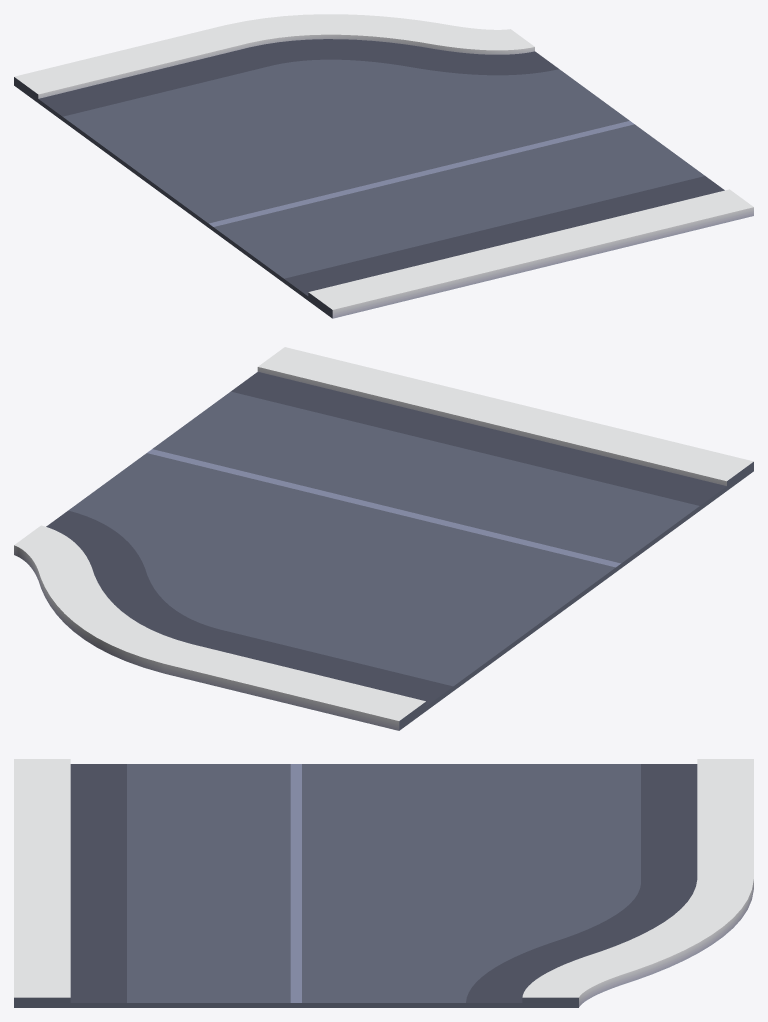
The model's file is kenney-city-roads-road-side-entry.glb.
3 views of the same model, one above another, from view 1: azimuth 30°, elevation 25°; view 2: azimuth 150°, elevation 25°; view 3: azimuth 270°, elevation 25° (orthographic). The views are drawn at different scales.
Visible parts, largest first — view 1: road-side-entry; view 2: road-side-entry; view 3: road-side-entry.
Boxes of the visible parts, left/top/right/bottom form: road-side-entry: left=14, top=14, right=753, bottom=318; road-side-entry: left=14, top=347, right=753, bottom=730; road-side-entry: left=14, top=759, right=753, bottom=1007.
Bounding box in the file's own units: 1 × 0.02 × 1.31.
1 material, 1 textured.
